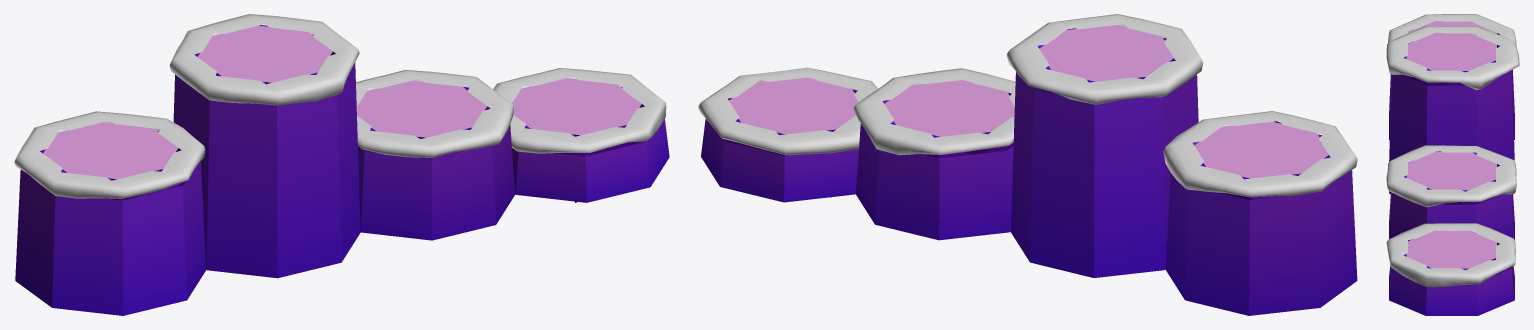
Rendered from Podium_Ice.fbx.
3 views of the same model, side by side, from view 1: azimuth 30°, elevation 25°; view 2: azimuth 150°, elevation 25°; view 3: azimuth 270°, elevation 25° (orthographic). The views are drawn at different scales.
Visible parts, largest first — view 1: Podium_Ice; view 2: Podium_Ice; view 3: Podium_Ice.
Boxes of the visible parts, left/top/right/bottom form: Podium_Ice: left=14, top=14, right=669, bottom=315; Podium_Ice: left=698, top=14, right=1357, bottom=315; Podium_Ice: left=1386, top=14, right=1519, bottom=315.
Bounding box in the file's own units: 4.42 × 1.32 × 1.16.
